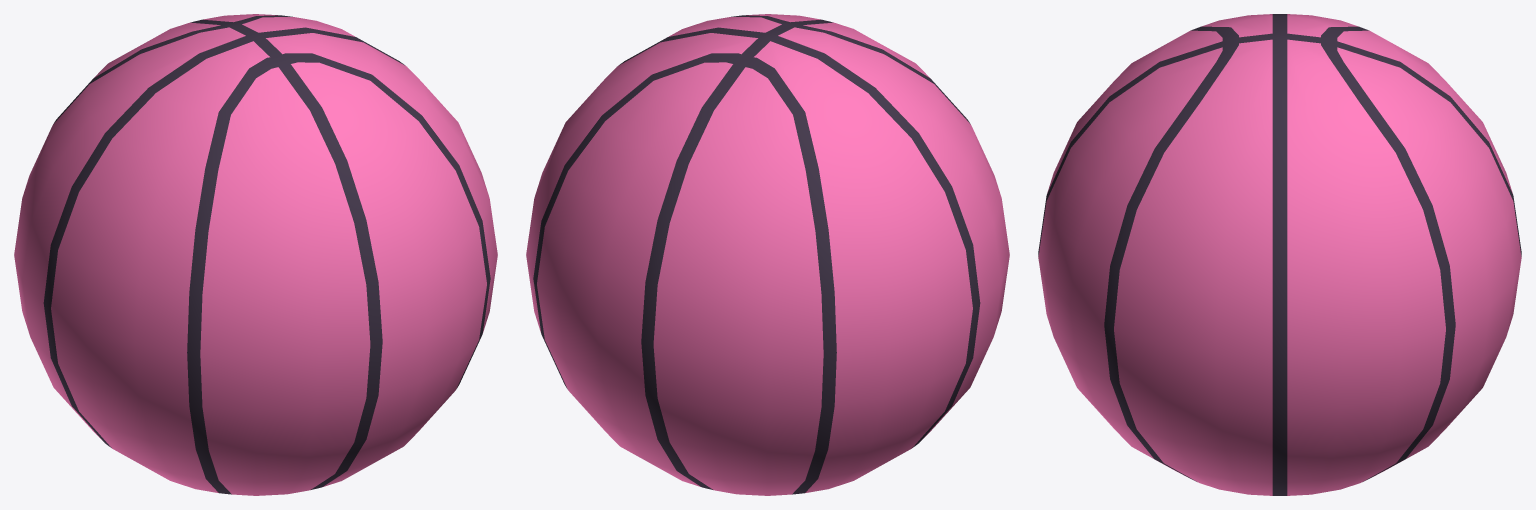
The model's file is Basketball_Pink.fbx.
3 renders of one model, left to right at view 1: azimuth 30°, elevation 25°; view 2: azimuth 150°, elevation 25°; view 3: azimuth 270°, elevation 25°, orthographic.
Visible parts, largest first — view 1: Basketball_Pink; view 2: Basketball_Pink; view 3: Basketball_Pink.
Boxes of the visible parts, <box> form: Basketball_Pink: <box>14,14,497,495</box>; Basketball_Pink: <box>526,14,1009,495</box>; Basketball_Pink: <box>1038,14,1521,495</box>.
Bounding box in the file's own units: 95.63 × 95.47 × 95.72.
